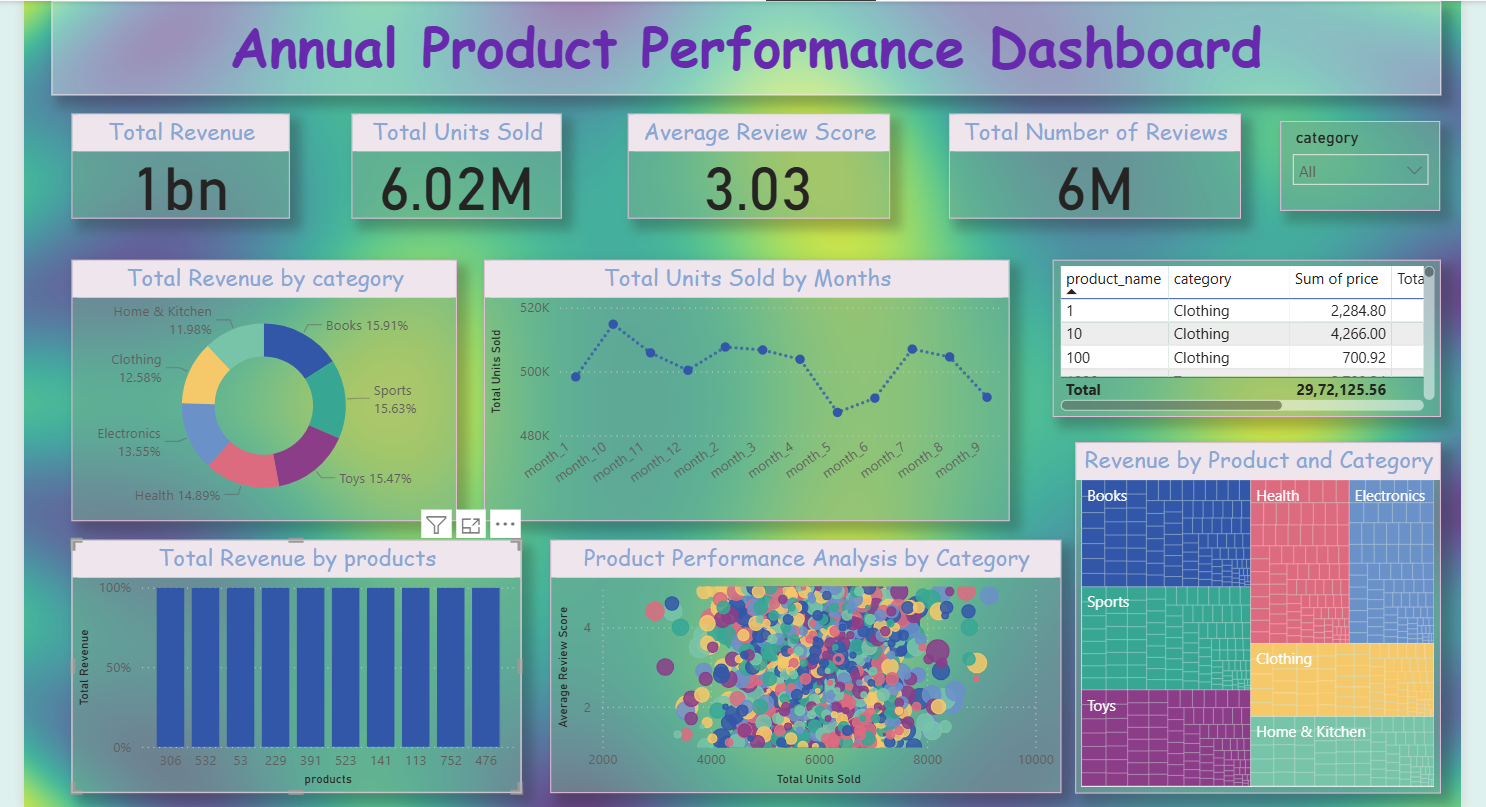

What the dashboard file says about the page in this screenshot:
{"tool":"powerbi","page":{"name":"Page 1","canvas":[1280,720],"ordinal":0},"visuals":[{"type":"card","title":"Total Revenue","fields":{"Values":["ecommerce_sales_analysis.Total Revenue"]},"box":[41.8,99.7,194.5,93.5],"z":0},{"type":"card","title":"Total Units Sold","fields":{"Values":["ecommerce_sales_analysis.Total Units Sold"]},"box":[291.7,99.7,187.1,93.5],"z":1000},{"type":"card","title":"Average Review Score","fields":{"Values":["ecommerce_sales_analysis.Average Review Score"]},"box":[537.8,99.7,233.8,93.5],"z":2000},{"type":"card","title":"Total Number of Reviews","fields":{"Values":["ecommerce_sales_analysis.Total Number of Reviews"]},"box":[823.4,99.7,259.7,93.5],"z":3000},{"type":"lineChart","fields":{"Category":["ecommerce_sales_analysis.Months"],"Y":["ecommerce_sales_analysis.Total Units Sold"]},"box":[409.8,230.2,467.7,232.6],"z":4000},{"type":"donutChart","fields":{"Category":["ecommerce_sales_analysis.category"],"Y":["ecommerce_sales_analysis.Total Revenue"]},"box":[41.8,230.2,343.4,232.6],"z":5000},{"type":"hundredPercentStackedColumnChart","fields":{"Y":["ecommerce_sales_analysis.Total Revenue"],"Category":["ecommerce_sales_analysis.product_name"]},"box":[42.2,480.2,400.5,225.6],"z":6000},{"type":"tableEx","fields":{"Values":["ecommerce_sales_analysis.product_name","ecommerce_sales_analysis.category","Sum(ecommerce_sales_analysis.price)","ecommerce_sales_analysis.Total Units Sold","ecommerce_sales_analysis.Total Revenue"]},"box":[915.7,230.2,345.8,140.3],"z":7000},{"type":"slicer","fields":{"Values":["ecommerce_sales_analysis.category"]},"box":[1118.8,107.1,142.8,80],"z":8000},{"type":"scatterChart","title":"Product Performance Analysis by Category","fields":{"Y":["ecommerce_sales_analysis.Average Review Score"],"X":["ecommerce_sales_analysis.Total Units Sold"],"Series":["ecommerce_sales_analysis.category"],"Size":["ecommerce_sales_analysis.Total Number of Reviews"],"Category":["ecommerce_sales_analysis.product_name"]},"box":[468.9,480,455.4,225.2],"z":9000},{"type":"treemap","title":"Revenue by Product and Category","fields":{"Group":["ecommerce_sales_analysis.category"],"Details":["ecommerce_sales_analysis.product_name"],"Values":["ecommerce_sales_analysis.Total Revenue"]},"box":[936.2,393.3,325.7,312.5],"z":10000},{"type":"textbox","box":[24.5,0,1237.5,84.4],"z":11000}]}

Visuals, with their boxes in screenshot pixels (x1, y1, x2, y2):
"Total Revenue" card: Rect(56, 111, 279, 218)
"Total Units Sold" card: Rect(343, 111, 558, 218)
"Average Review Score" card: Rect(625, 111, 894, 218)
"Total Number of Reviews" card: Rect(953, 111, 1252, 218)
lineChart - ecommerce_sales_analysis.Months x ecommerce_sales_analysis.Total Units Sold: Rect(478, 261, 1016, 528)
donutChart - ecommerce_sales_analysis.category x ecommerce_sales_analysis.Total Revenue: Rect(56, 261, 450, 528)
hundredPercentStackedColumnChart - ecommerce_sales_analysis.Total Revenue x ecommerce_sales_analysis.product_name: Rect(56, 548, 516, 806)
tableEx - ecommerce_sales_analysis.product_name x ecommerce_sales_analysis.category: Rect(1059, 261, 1457, 422)
slicer - ecommerce_sales_analysis.category: Rect(1293, 119, 1457, 211)
"Product Performance Analysis by Category" scatterChart: Rect(546, 547, 1069, 806)
"Revenue by Product and Category" treemap: Rect(1083, 448, 1457, 806)
textbox: Rect(36, 0, 1457, 93)
